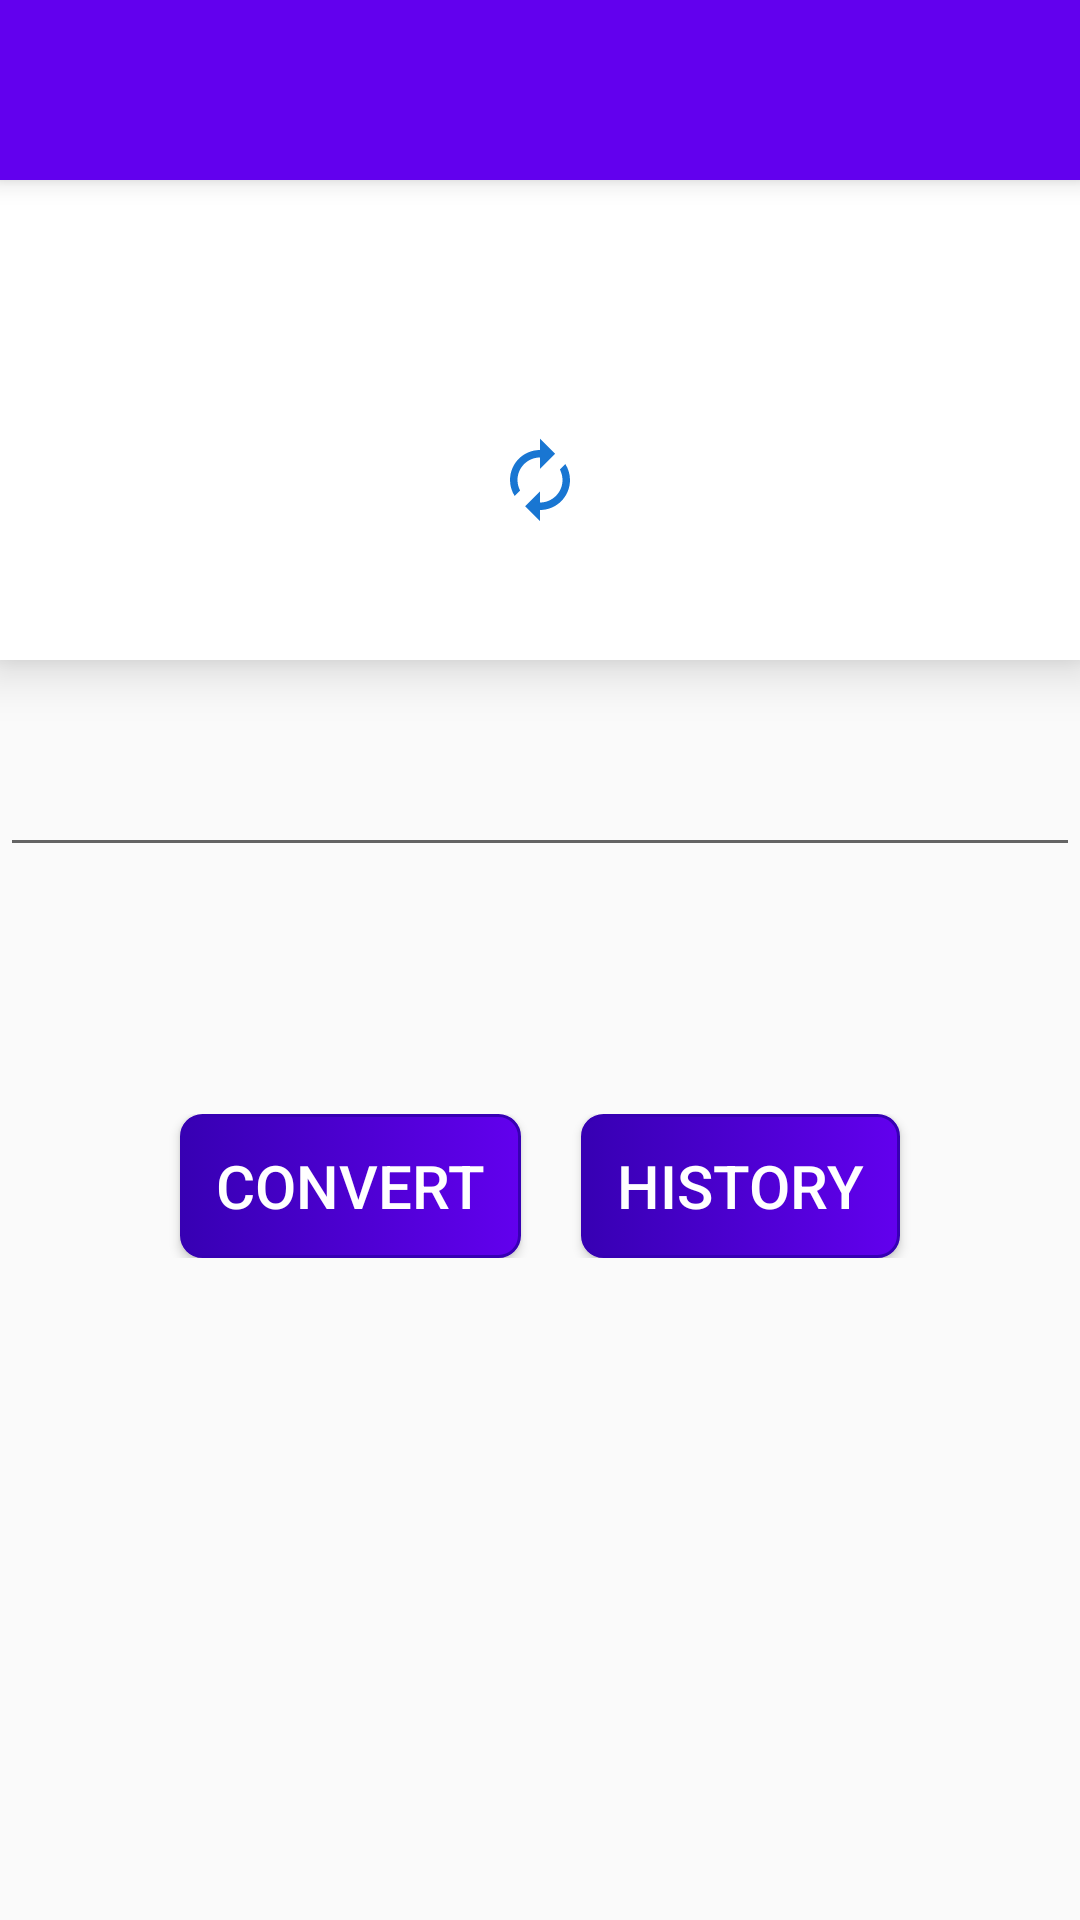

Icon click points for this 1080px x 1920px phone screenshot, format [x,y]:
autorenew: [540,480]
